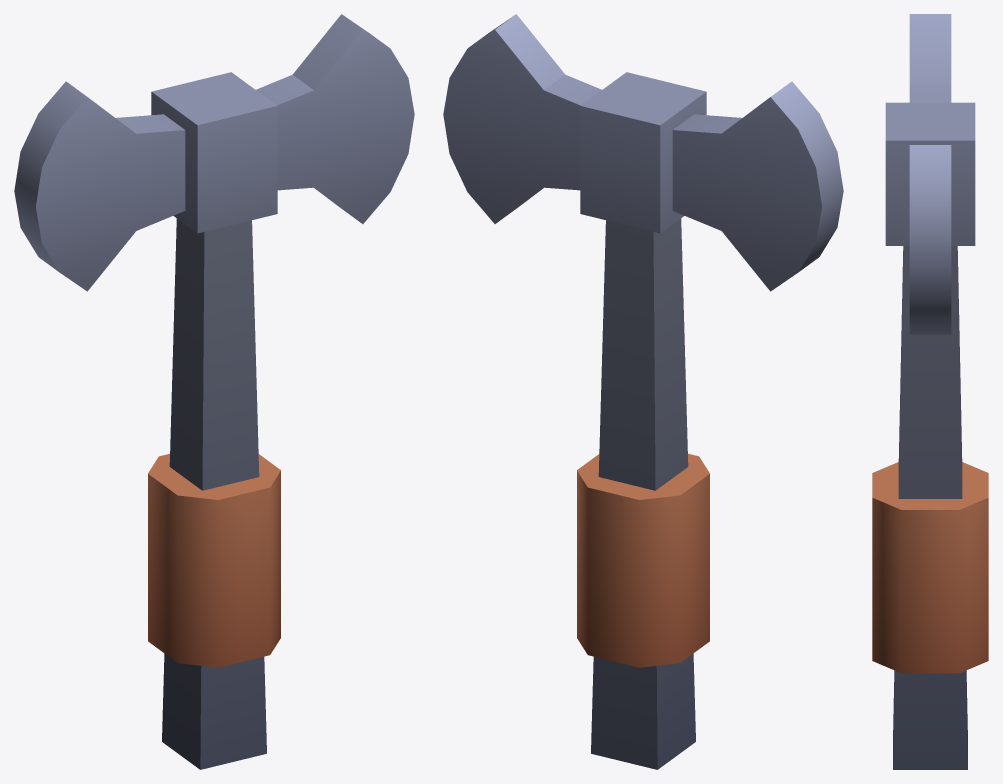
File: tool-axe-upgraded.glb
3 renders of one model, left to right at view 1: azimuth 30°, elevation 25°; view 2: azimuth 150°, elevation 25°; view 3: azimuth 270°, elevation 25°, orthographic. The views are drawn at different scales.
Visible parts, largest first — view 1: tool-axe-upgraded; view 2: tool-axe-upgraded; view 3: tool-axe-upgraded.
Part boxes in pixels (x1,y1,x2,y2): tool-axe-upgraded: (14,14,414,769); tool-axe-upgraded: (443,14,843,769); tool-axe-upgraded: (872,14,988,769).
Size of the model in its own units: 0.1466 by 0.256 by 0.04.
